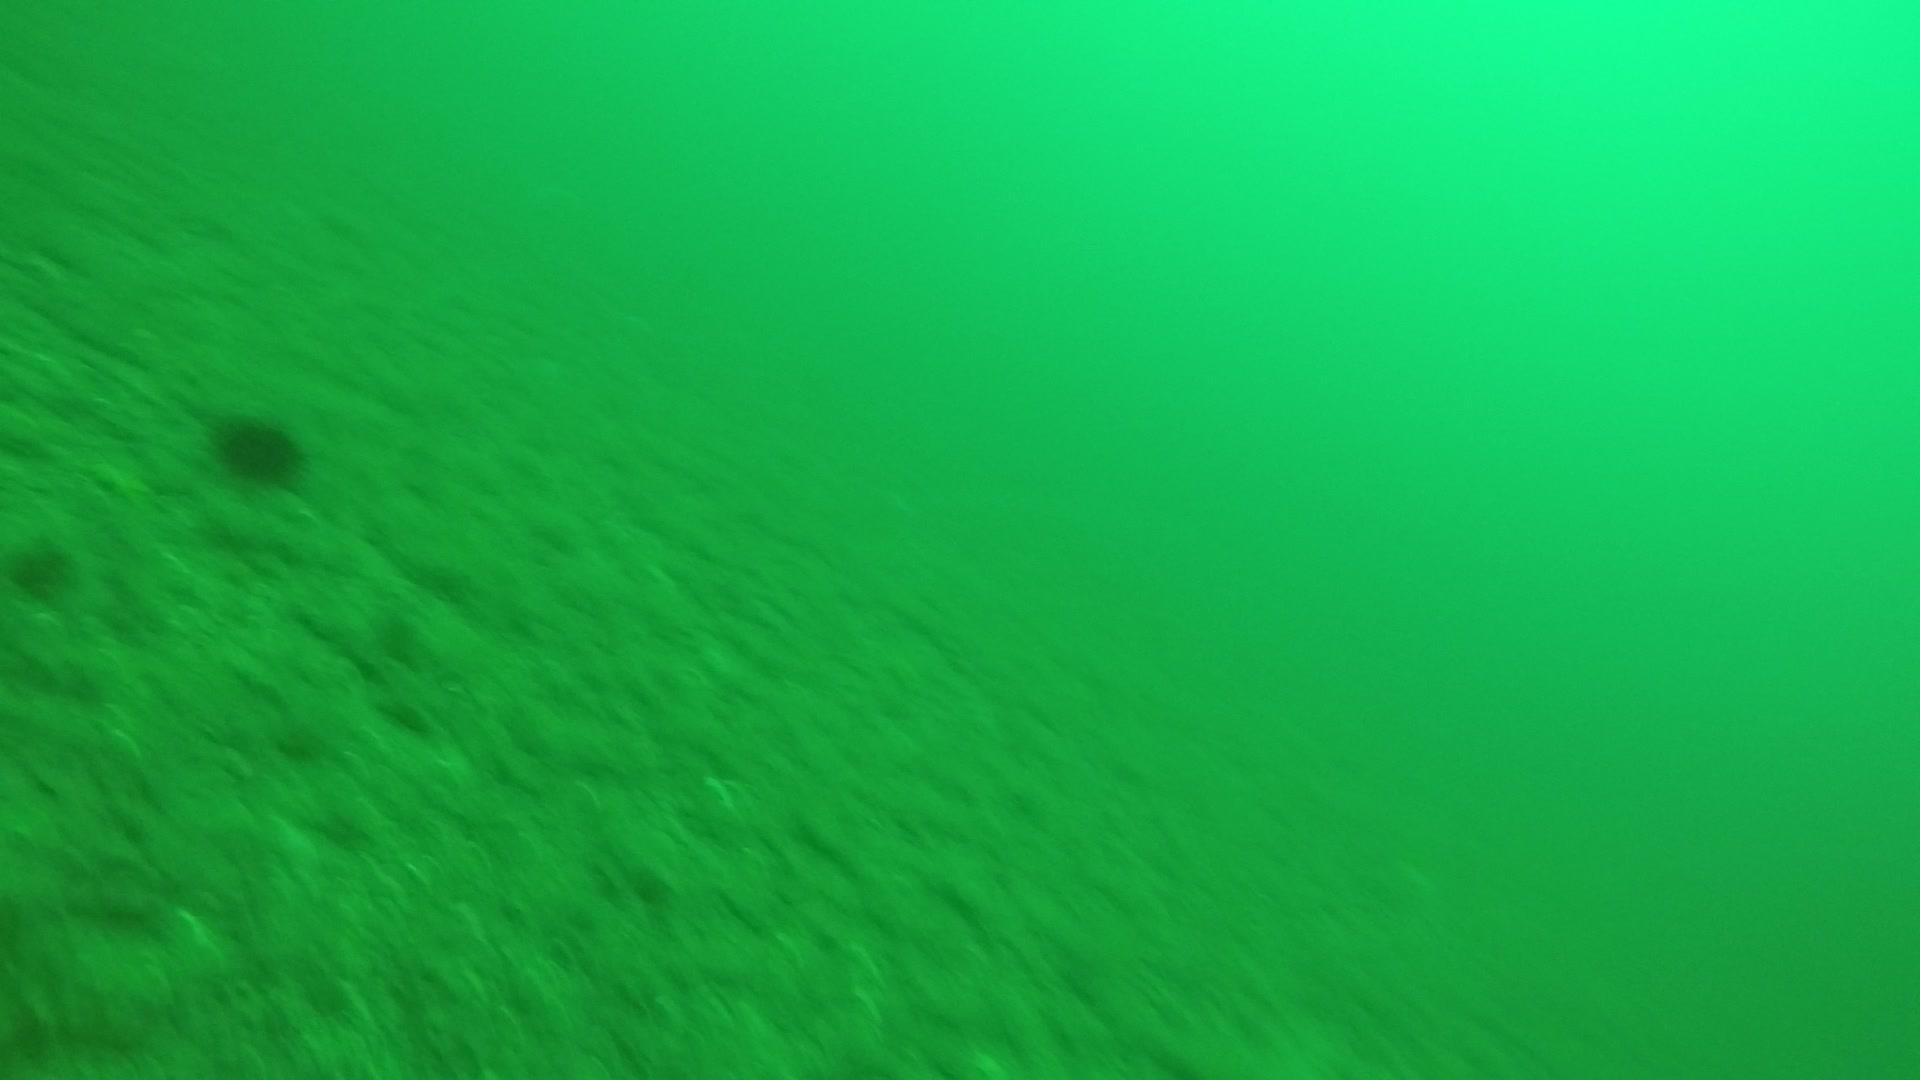echinus: (208, 406, 309, 489), (5, 531, 76, 603)
